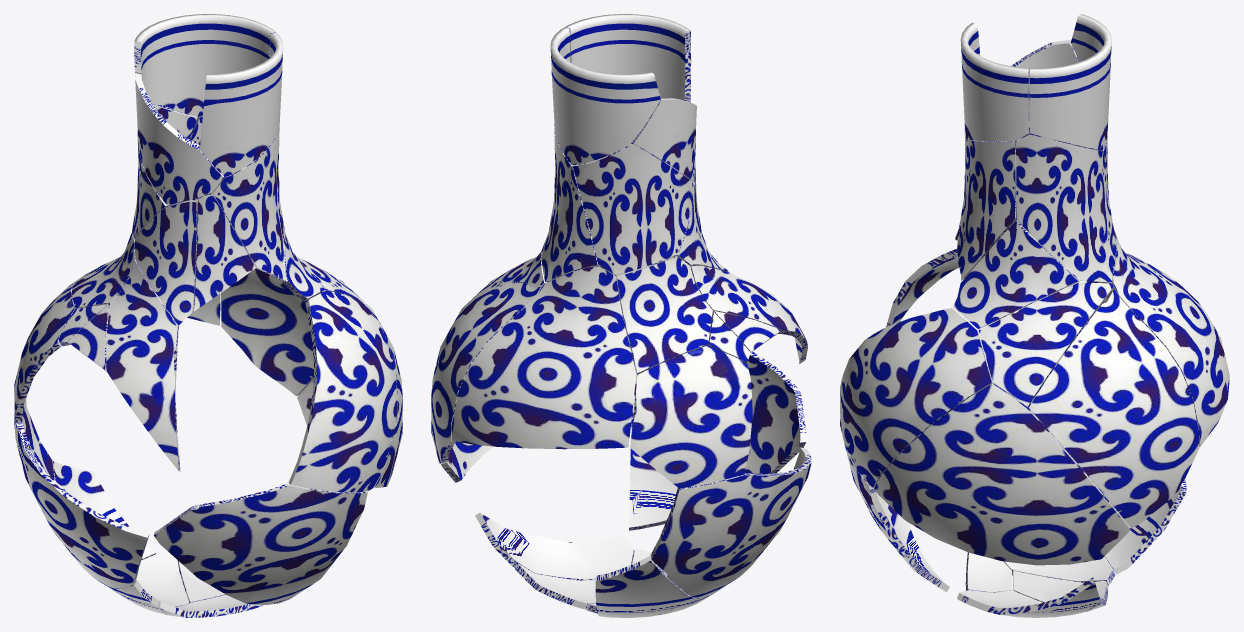
Rendered from vase2_fractured.fbx.
3 views of the same model, side by side, from view 1: azimuth 30°, elevation 25°; view 2: azimuth 150°, elevation 25°; view 3: azimuth 270°, elevation 25° (orthographic).
Visible parts, largest first — view 1: Vase2_cell.019, Vase2_cell.030, Vase2_cell.021, Vase2_cell.005, Vase2_cell.033, Vase2_cell.009, Vase2_cell.008, Vase2_cell.001, Vase2_cell.015, Vase2_cell.016, Vase2_cell.025, Vase2_cell.032 (+12 smaller); view 2: Vase2_cell.022, Vase2_cell.032, Vase2_cell.033, Vase2_cell.018, Vase2_cell.021, Vase2_cell.019, Vase2_cell.023, Vase2_cell.008, Vase2_cell.009, Vase2_cell.007, Vase2_cell.004, Vase2_cell.006 (+8 smaller); view 3: Vase2_cell.013, Vase2_cell.009, Vase2_cell.030, Vase2_cell.004, Vase2_cell.022, Vase2_cell.017, Vase2_cell.021, Vase2_cell, Vase2_cell.001, Vase2_cell.008, Vase2_cell.007, Vase2_cell.019 (+6 smaller).
Boxes of the visible parts, x1,y1,x2,y2 form: Vase2_cell.019: (153,483,367,604); Vase2_cell.030: (288,290,397,492); Vase2_cell.021: (134,14,276,116); Vase2_cell.005: (106,261,180,471); Vase2_cell.033: (14,398,149,588); Vase2_cell.009: (221,265,327,396); Vase2_cell.008: (199,33,283,176); Vase2_cell.001: (210,125,287,281); Vase2_cell.015: (134,200,197,325); Vase2_cell.016: (135,73,223,204); Vase2_cell.025: (194,194,255,311); Vase2_cell.032: (14,284,75,421); Vase2_cell.022: (451,266,636,449); Vase2_cell.032: (630,345,752,488); Vase2_cell.033: (650,447,811,598); Vase2_cell.018: (573,143,695,274); Vase2_cell.021: (550,27,660,164); Vase2_cell.019: (629,351,806,530); Vase2_cell.023: (616,256,712,375); Vase2_cell.008: (565,14,691,102); Vase2_cell.009: (431,282,540,463); Vase2_cell.007: (475,512,634,580); Vase2_cell.004: (541,125,601,282); Vase2_cell.006: (595,556,698,617); Vase2_cell.013: (874,383,1130,565); Vase2_cell.009: (1029,289,1199,528); Vase2_cell.030: (840,308,992,487); Vase2_cell.004: (1016,134,1116,282); Vase2_cell.022: (1108,228,1229,446); Vase2_cell.017: (978,282,1113,407); Vase2_cell.021: (1029,14,1111,150); Vase2_cell: (953,220,1079,329); Vase2_cell.001: (957,137,1016,280); Vase2_cell.008: (960,23,1029,141); Vase2_cell.007: (957,577,1099,617); Vase2_cell.019: (840,415,949,592).
Bounding box in the file's own units: 59.71 × 93.24 × 59.52.
